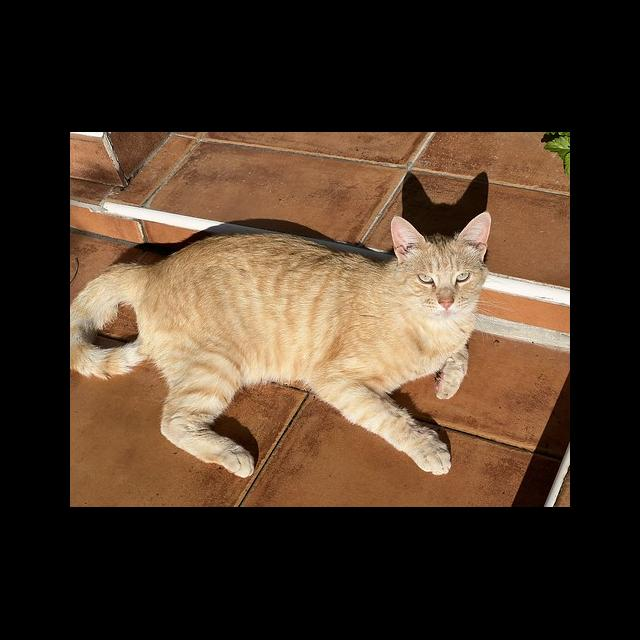animals: (70, 211, 492, 479)
